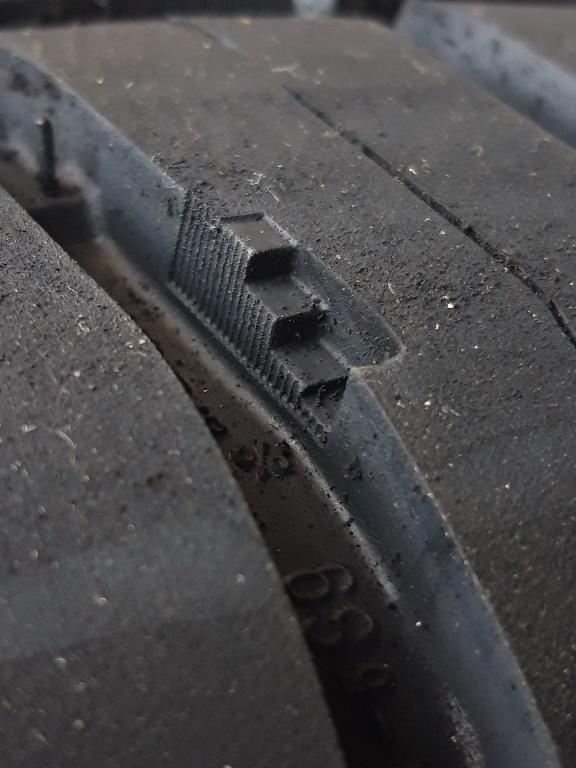temoin:75: (204, 208, 413, 454)
